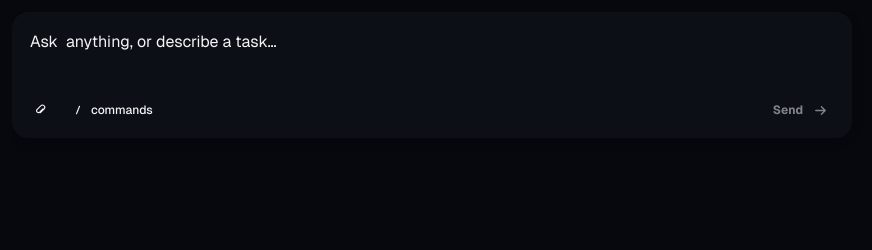
Test: Composer — slash menu keyboard navigation › Tab also picks the highlighted command
Type "/c" into the text box with placeholder "Ask anything, or describe a task…" at (432,50), box x1=12 y1=12 x2=852 y2=88
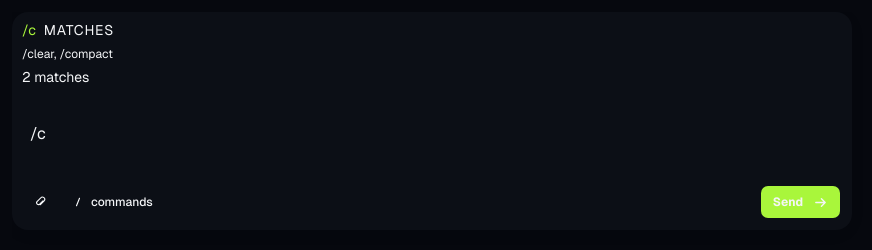
Press Tab in the text box named "Message", box x1=12 y1=104 x2=852 y2=180
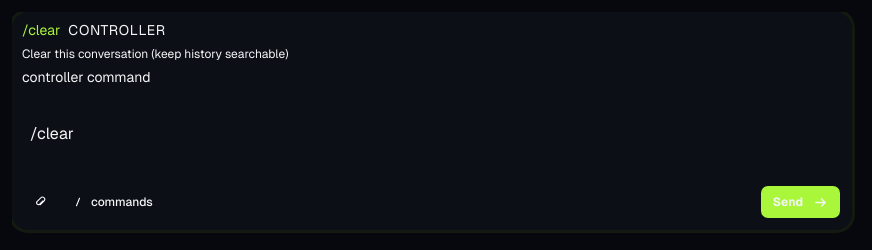
Result: the text box named "Message" holds "/clear " at x1=12 y1=104 x2=852 y2=180
